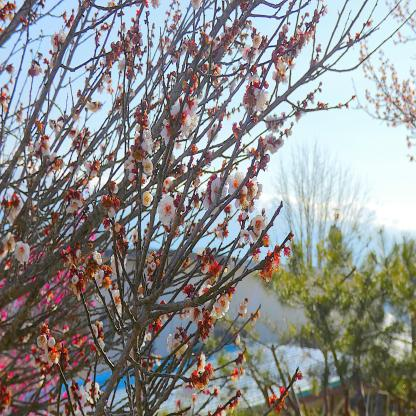Ume: (0, 0, 373, 416), (348, 0, 416, 165)
